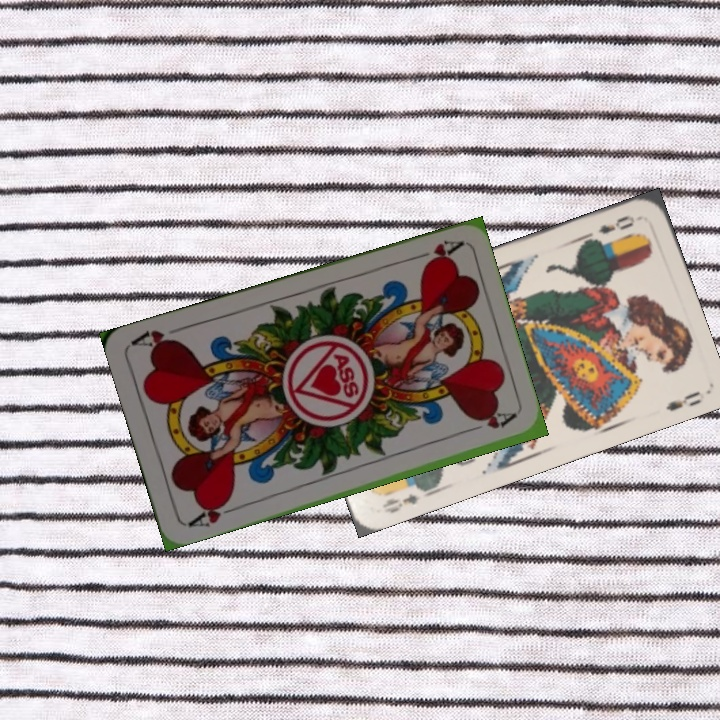EO: (378, 480, 433, 516), (594, 211, 638, 237)
HA: (405, 235, 464, 269), (184, 495, 241, 530)
